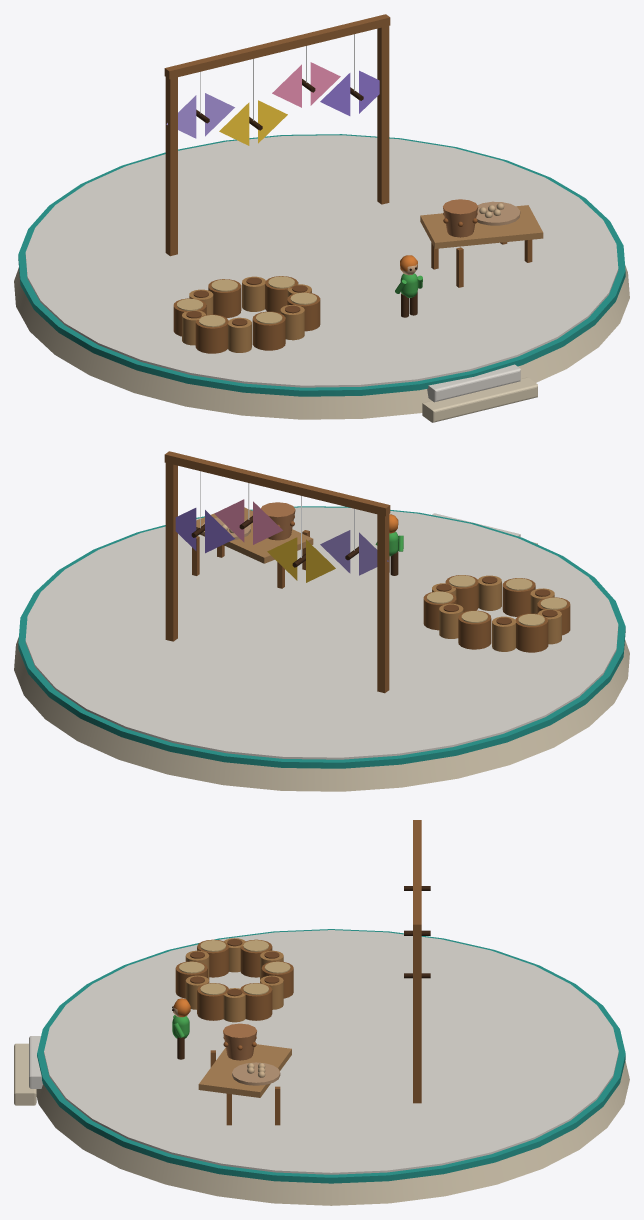
File: ideasHouse.glb
3 views of the same model, one above another, from view 1: azimuth 30°, elevation 25°; view 2: azimuth 150°, elevation 25°; view 3: azimuth 270°, elevation 25° (orthographic). The views are drawn at different scales.
Visible parts, largest first — view 1: part_000, part_011, part_025, part_020, part_018, part_006, part_013, part_004, part_027; view 2: part_000, part_006, part_013, part_018, part_020, part_025, part_011, part_027, part_004; view 3: part_000.
Part boxes in pixels (<box>): part_000: <box>14,14,629,422</box>; part_011: <box>219,102,249,145</box>; part_025: <box>320,73,350,115</box>; part_020: <box>310,62,340,105</box>; part_018: <box>272,64,301,107</box>; part_006: <box>205,93,234,136</box>; part_013: <box>258,100,287,143</box>; part_004: <box>166,95,196,138</box>; part_027: <box>359,70,379,113</box>; part_000: <box>14,451,629,791</box>; part_006: <box>320,530,350,573</box>; part_013: <box>267,537,297,580</box>; part_018: <box>253,501,282,544</box>; part_020: <box>214,499,244,542</box>; part_025: <box>205,510,234,553</box>; part_011: <box>306,539,335,582</box>; part_027: <box>175,508,196,550</box>; part_004: <box>359,532,388,575</box>; part_000: <box>14,820,629,1205</box>.
Bounding box in the file's own units: 11.12 × 4.28 × 11.47.
